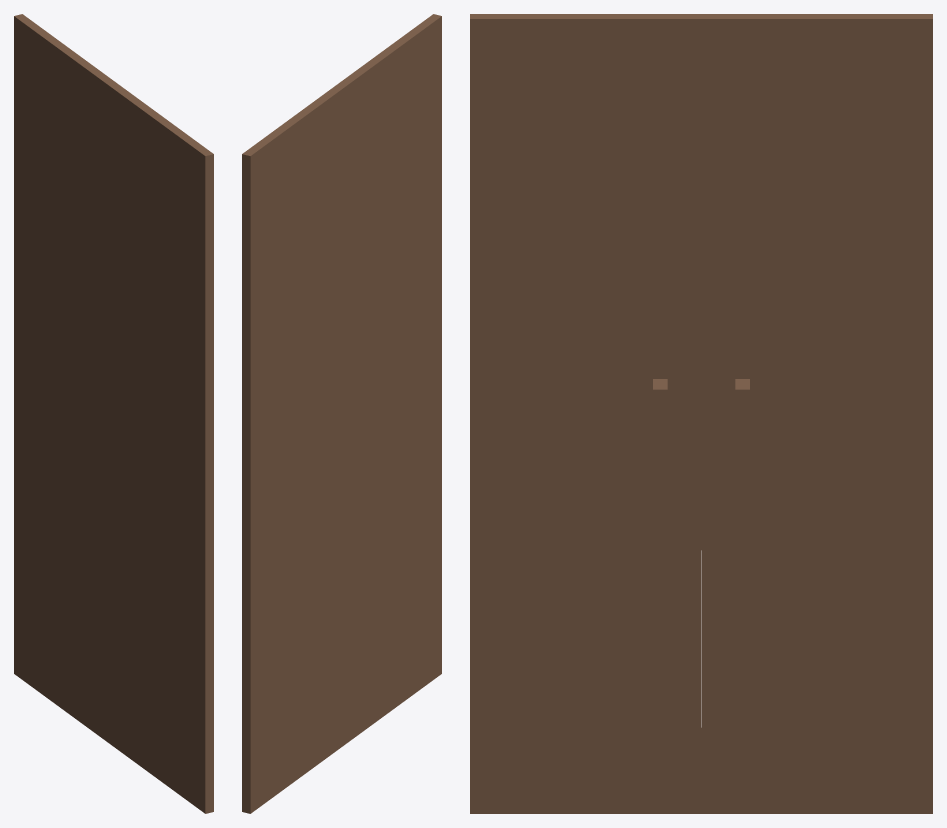
Rendered from cupboard_onlyDoors.fbx.
The picture shows the model from 3 angles, left to right: view 1: azimuth 30°, elevation 25°; view 2: azimuth 150°, elevation 25°; view 3: azimuth 270°, elevation 25°; orthographic projection. The views are drawn at different scales.
Visible parts, largest first — view 1: Cupb Left Door, Cupb Right Door; view 2: Cupb Right Door, Cupb Left Door; view 3: Cupb Left Door, Cupb Right Door.
Boxes of the visible parts, box(x1,y1,x2,y2) form: Cupb Left Door: box(109, 84, 213, 813); Cupb Right Door: box(14, 14, 117, 743); Cupb Right Door: box(242, 84, 346, 813); Cupb Left Door: box(338, 14, 441, 743); Cupb Left Door: box(470, 14, 701, 813); Cupb Right Door: box(701, 14, 932, 813).
Size of the model in its own units: 618 by 14421 by 7609.
